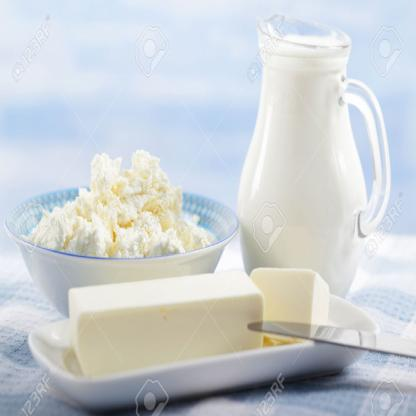butter: (66, 271, 262, 374), (252, 265, 331, 350)
milk: (245, 22, 369, 308)
